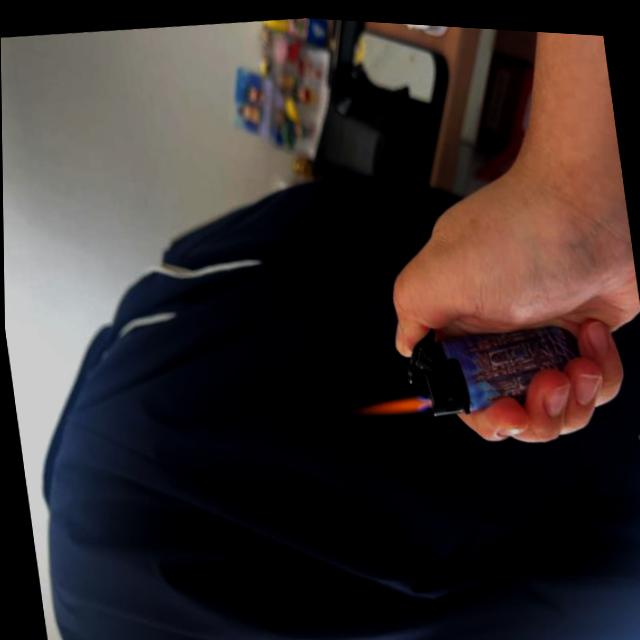Fire: (352, 383, 426, 420)
